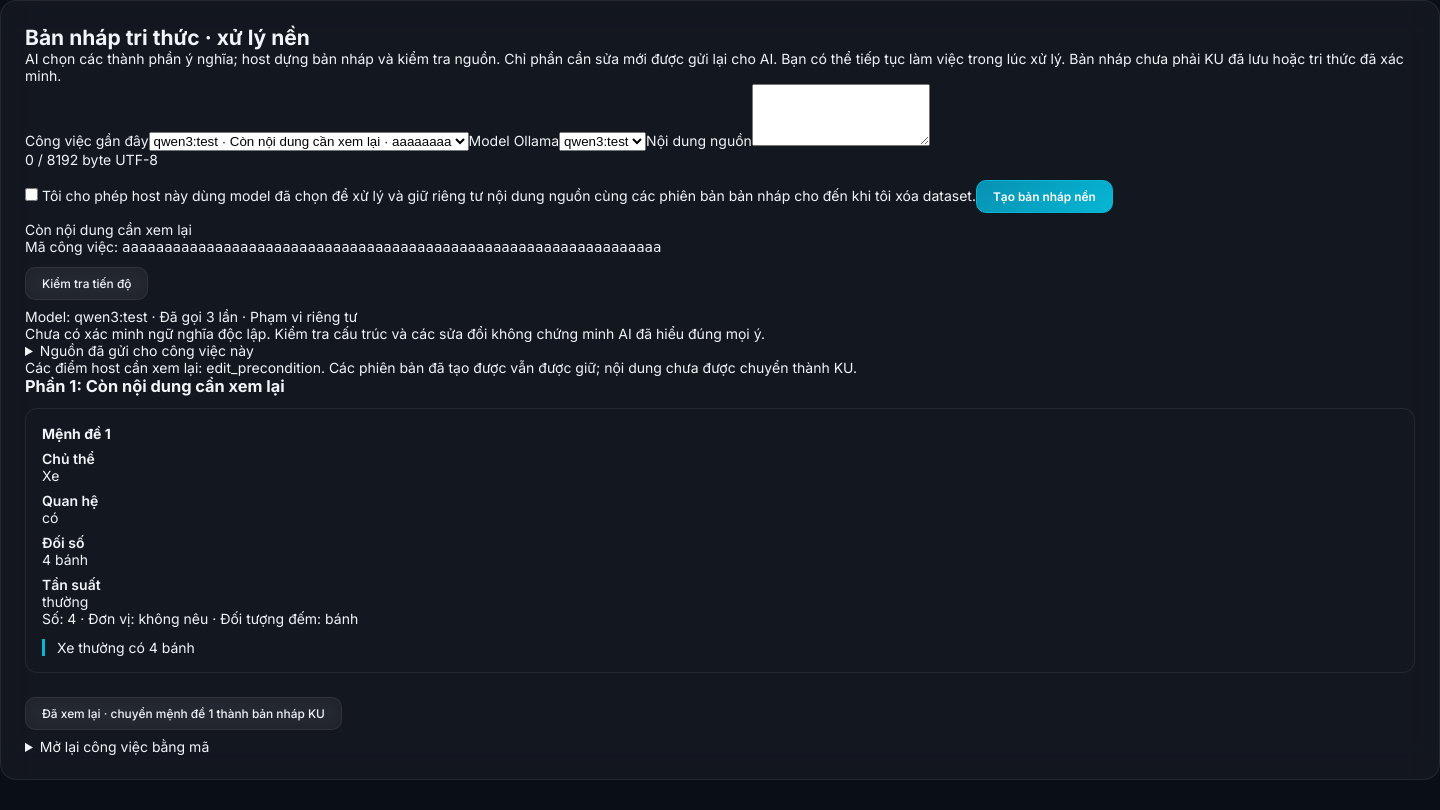
it: retains the draft and operation after a failed progress read
Expected: the heading "Mệnh đề 1" is shown, [42,425,111,442]
Click the button "Kiểm tra tiến độ": (87, 284) [25,267,148,300]
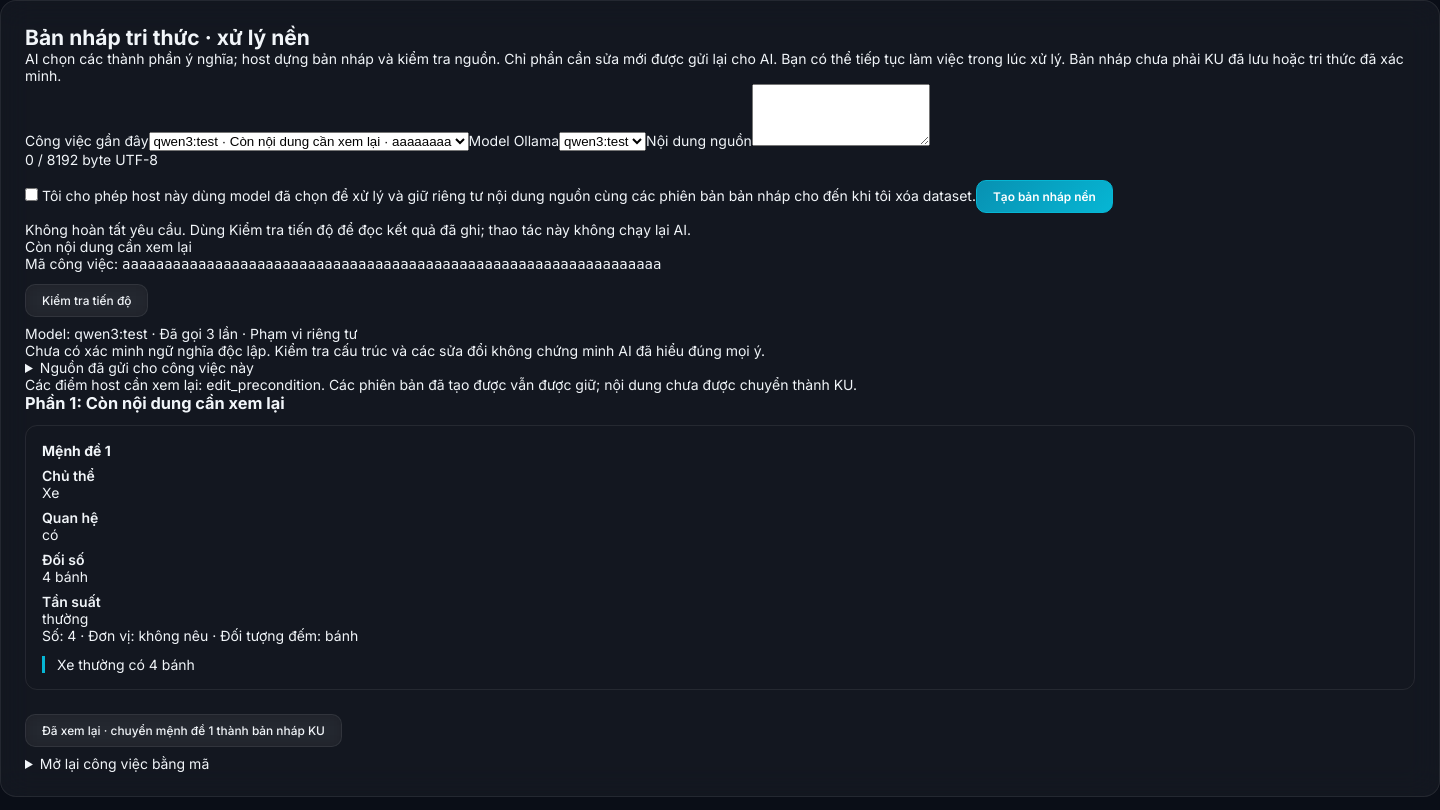
Expected: the heading "Mệnh đề 1" is shown, [42,442,111,459]
Expected: the 1st message is shown, [25,221,691,238]
